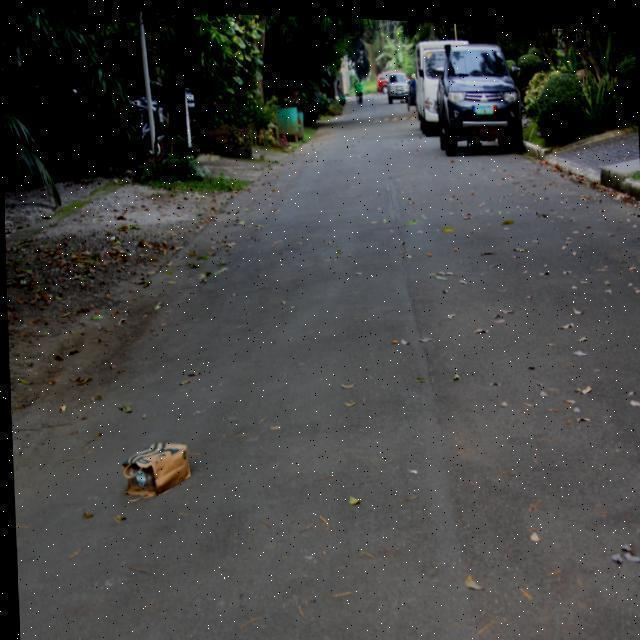Paper_Bag: (118, 438, 190, 502)
